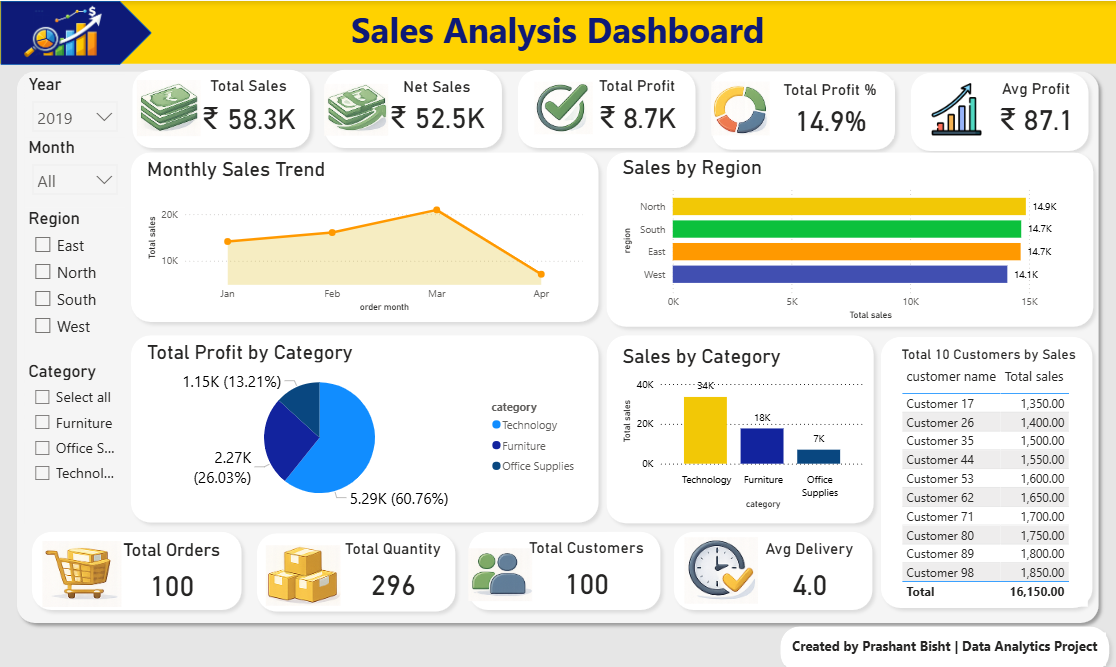

This screenshot's page, from the dashboard's own definition file:
{"tool":"powerbi","page":{"name":"Page 1","canvas":[1366,830],"ordinal":0},"visuals":[{"type":"shape","box":[13.6,76.3,1340.4,692.2],"z":0},{"type":"shape","box":[154.8,74.4,235.1,113.6],"z":1000},{"type":"shape","box":[733.4,399.7,344.7,247.5],"z":2000},{"type":"slicer","title":"Year","fields":{"Values":["orders.order year"]},"box":[31.3,90.1,123.4,82.3],"z":3000},{"type":"shape","box":[387.9,74.4,235.1,113.6],"z":4000},{"type":"slicer","title":"Month","fields":{"Values":["orders.order month"]},"box":[31.3,166.5,123.4,86.2],"z":5000},{"type":"shape","box":[624.9,74.4,235.1,113.6],"z":6000},{"type":"shape","box":[861.9,76.3,242.6,113.7],"z":7000},{"type":"slicer","title":"Region","fields":{"Values":["orders.region"]},"box":[31.3,252.7,123.4,186.1],"z":8000},{"type":"slicer","title":"Category","fields":{"Values":["orders.category"]},"box":[30.5,439.4,123.9,200.2],"z":9000},{"type":"shape","box":[1104.8,78.4,235.1,113.6],"z":10000},{"type":"shape","box":[152.8,176.3,589.6,225.3],"z":11000},{"type":"card","title":"Total Sales","fields":{"Values":["orders.Total sales"]},"box":[237,92.1,137.1,76.4],"z":12000},{"type":"card","title":"Net Sales","fields":{"Values":["orders.net sales"]},"box":[468.3,93.3,135.7,71.3],"z":13000},{"type":"card","title":"Total Profit","fields":{"Values":["orders.total profit"]},"box":[724.8,92.1,111.7,74.4],"z":14000},{"type":"card","title":"Total Profit %","fields":{"Values":["orders.Profit Margin %"]},"box":[938.2,96.7,154.4,71.3],"z":15000},{"type":"shape","box":[1068.9,402.1,276.6,349.5],"z":16000},{"type":"card","title":"Avg Profit","fields":{"Values":["orders.Avg Profit"]},"box":[1214.5,96,107.7,72.5],"z":17000},{"type":"shape","box":[732.6,176.3,613.1,231.2],"z":18000},{"type":"shape","box":[152.8,399.6,589.6,246.8],"z":19000},{"type":"stackedAreaChart","title":"Monthly Sales Trend","fields":{"Y":["orders.Total sales"],"Category":["orders.order month"]},"box":[176.3,190,542.6,193.9],"z":20000},{"type":"shape","box":[31.3,640.6,274.2,113.6],"z":21000},{"type":"shape","box":[564.2,640.6,252.7,113.6],"z":22000},{"type":"shape","box":[816.9,640.6,260.5,113.6],"z":23000},{"type":"clusteredColumnChart","title":"Sales by Category","fields":{"Category":["orders.category"],"Y":["orders.Total sales"]},"box":[757.3,419.9,306.2,205.4],"z":24000},{"type":"shape","box":[305.6,642.5,260.5,113.6],"z":25000},{"type":"clusteredBarChart","title":"Sales by Region","fields":{"Category":["orders.region"],"Y":["orders.Total sales"]},"box":[757.3,188.9,564.8,205.4],"z":26000},{"type":"pieChart","title":"Total Profit by Category","fields":{"Category":["orders.category"],"Y":["orders.total profit"]},"box":[176,414.4,540.9,210.9],"z":27000},{"type":"tableEx","title":"Total 10 Customers by Sales","fields":{"Values":["orders.customer name","orders.Total sales"]},"box":[1097.7,422.5,232.4,319],"z":28000},{"type":"card","title":"Total Orders","fields":{"Values":["orders.total orders"]},"box":[144.2,658.3,132.3,83.1],"z":29000},{"type":"card","title":"Total Quantity","fields":{"Values":["orders.total quantity"]},"box":[415.7,658.3,130.6,83.1],"z":30000},{"type":"card","title":"Total Customers","fields":{"Values":["Count(orders.customer name)"]},"box":[639.6,656.6,156.1,84.8],"z":31000},{"type":"card","title":"Avg Delivery","fields":{"Values":["orders.Avg Delivery"]},"box":[928.1,658.3,125.6,83.1],"z":32000},{"type":"textbox","box":[0,0,1365.8,76.3],"z":33000},{"type":"image","box":[162.9,83.1,88.2,96.7],"z":34000},{"type":"shape","box":[1.7,0,184.9,78],"z":35000},{"type":"image","box":[391.9,88.2,88.2,89.9],"z":36000},{"type":"image","box":[865.3,91.6,81.4,79.7],"z":37000},{"type":"image","box":[47.5,644.7,106.9,110.3],"z":38000},{"type":"image","box":[568.4,658.3,88.2,86.5],"z":39000},{"type":"image","box":[833.1,644.7,100.1,101.8],"z":40000},{"type":"image","box":[639.6,93.3,100.1,74.7],"z":41000},{"type":"image","box":[320.7,646.4,101.8,110.3],"z":42000},{"type":"image","box":[1133.4,91.6,74.7,81.4],"z":43000},{"type":"image","box":[3.4,0,147.6,74.7],"z":44000},{"type":"shape","box":[946.1,755.5,419.9,75.2],"z":45000},{"type":"textbox","box":[964.5,772,388.7,42.2],"z":46000}]}

Visuals, with their boxes in screenshot pixels (x1, y1, x2, y2), scaled from the page's 1366x830 canvas onto the 1116x667 screenshot:
shape: <bbox>11, 61, 1106, 618</bbox>
shape: <bbox>126, 60, 319, 151</bbox>
shape: <bbox>599, 321, 881, 520</bbox>
"Year" slicer: <bbox>26, 72, 126, 139</bbox>
shape: <bbox>317, 60, 509, 151</bbox>
"Month" slicer: <bbox>26, 134, 126, 203</bbox>
shape: <bbox>511, 60, 703, 151</bbox>
shape: <bbox>704, 61, 902, 153</bbox>
"Region" slicer: <bbox>26, 203, 126, 353</bbox>
"Category" slicer: <bbox>25, 353, 126, 514</bbox>
shape: <bbox>903, 63, 1095, 154</bbox>
shape: <bbox>125, 142, 607, 323</bbox>
"Total Sales" card: <bbox>194, 74, 306, 135</bbox>
"Net Sales" card: <bbox>383, 75, 493, 132</bbox>
"Total Profit" card: <bbox>592, 74, 683, 134</bbox>
"Total Profit %" card: <bbox>766, 78, 893, 135</bbox>
shape: <bbox>873, 323, 1099, 604</bbox>
"Avg Profit" card: <bbox>992, 77, 1080, 135</bbox>
shape: <bbox>599, 142, 1099, 327</bbox>
shape: <bbox>125, 321, 607, 519</bbox>
"Monthly Sales Trend" stackedAreaChart: <bbox>144, 153, 587, 309</bbox>
shape: <bbox>26, 515, 250, 606</bbox>
shape: <bbox>461, 515, 667, 606</bbox>
shape: <bbox>667, 515, 880, 606</bbox>
"Sales by Category" clusteredColumnChart: <bbox>619, 337, 869, 503</bbox>
shape: <bbox>250, 516, 462, 608</bbox>
"Sales by Region" clusteredBarChart: <bbox>619, 152, 1080, 317</bbox>
"Total Profit by Category" pieChart: <bbox>144, 333, 586, 503</bbox>
"Total 10 Customers by Sales" tableEx: <bbox>897, 340, 1087, 596</bbox>
"Total Orders" card: <bbox>118, 529, 226, 596</bbox>
"Total Quantity" card: <bbox>340, 529, 446, 596</bbox>
"Total Customers" card: <bbox>523, 528, 650, 596</bbox>
"Avg Delivery" card: <bbox>758, 529, 861, 596</bbox>
textbox: <bbox>0, 0, 1115, 61</bbox>
image: <bbox>133, 67, 205, 144</bbox>
shape: <bbox>1, 0, 152, 63</bbox>
image: <bbox>320, 71, 392, 143</bbox>
image: <bbox>707, 74, 773, 138</bbox>
image: <bbox>39, 518, 126, 607</bbox>
image: <bbox>464, 529, 536, 599</bbox>
image: <bbox>681, 518, 762, 600</bbox>
image: <bbox>523, 75, 604, 135</bbox>
image: <bbox>262, 519, 345, 608</bbox>
image: <bbox>926, 74, 987, 139</bbox>
image: <bbox>3, 0, 123, 60</bbox>
shape: <bbox>773, 607, 1115, 666</bbox>
textbox: <bbox>788, 620, 1106, 654</bbox>
